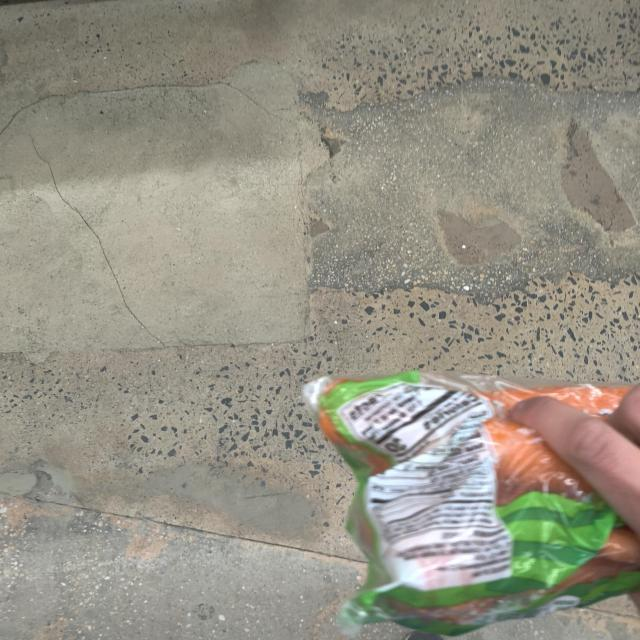carrot: (297, 382, 640, 630)
